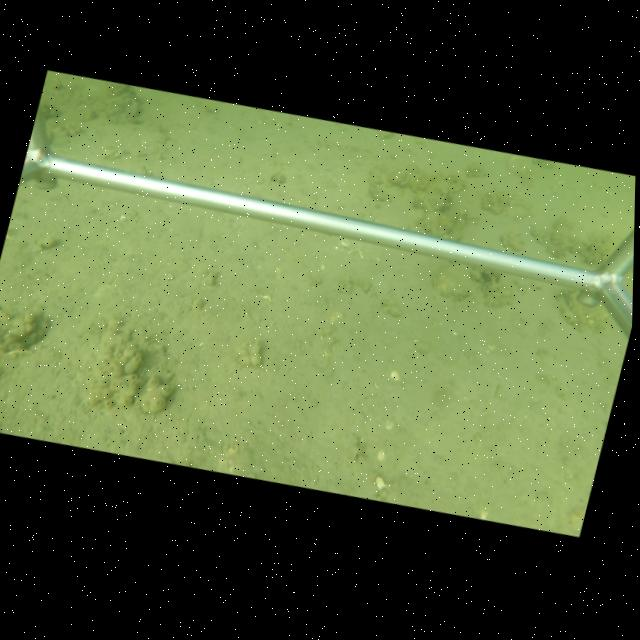Oyster-Indeterminate: (429, 262, 475, 301)
